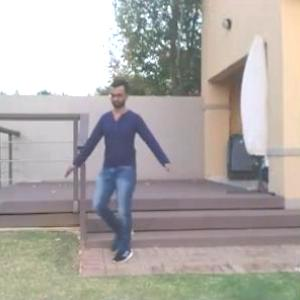land: (70, 90, 177, 267)
